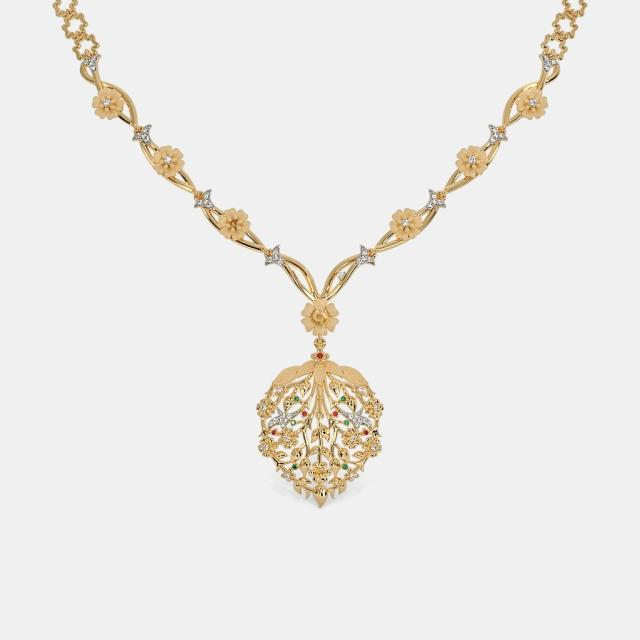missing gem: (311, 307, 330, 326), (231, 219, 239, 227)
